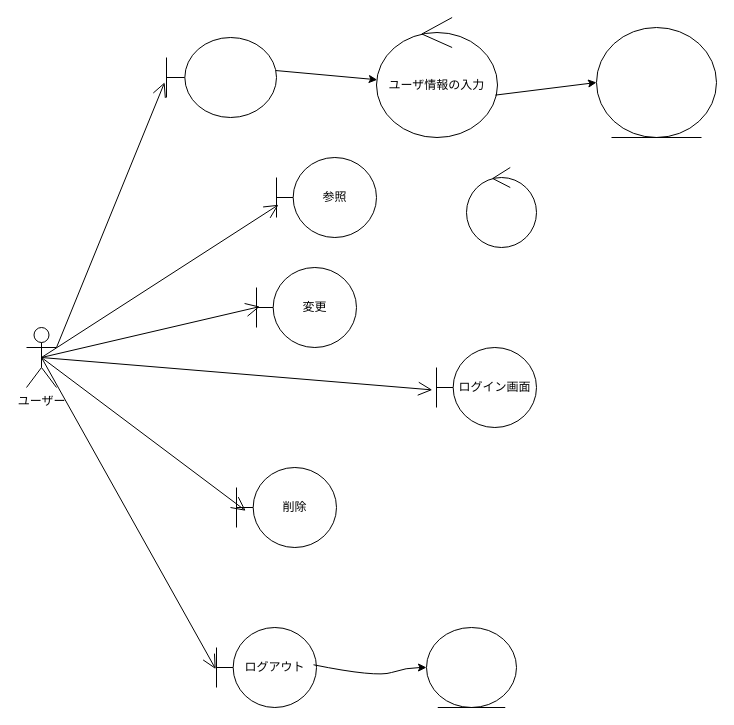
This 734x725 diagram has some shape labels left out. The centre of each missing label's shape, as x and y in pixels:
ログアウトする: [471,667]
ログイン: [501,207]
新規登録: [221,77]
登録完了: [656,82]
